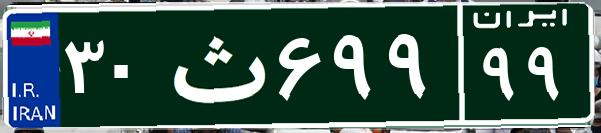0: (110, 28, 158, 105)
3: (57, 26, 110, 107)
6: (273, 28, 330, 110)
9: (385, 28, 445, 110), (330, 28, 385, 110), (475, 38, 525, 113), (525, 38, 570, 115)
ث: (158, 15, 273, 115)
